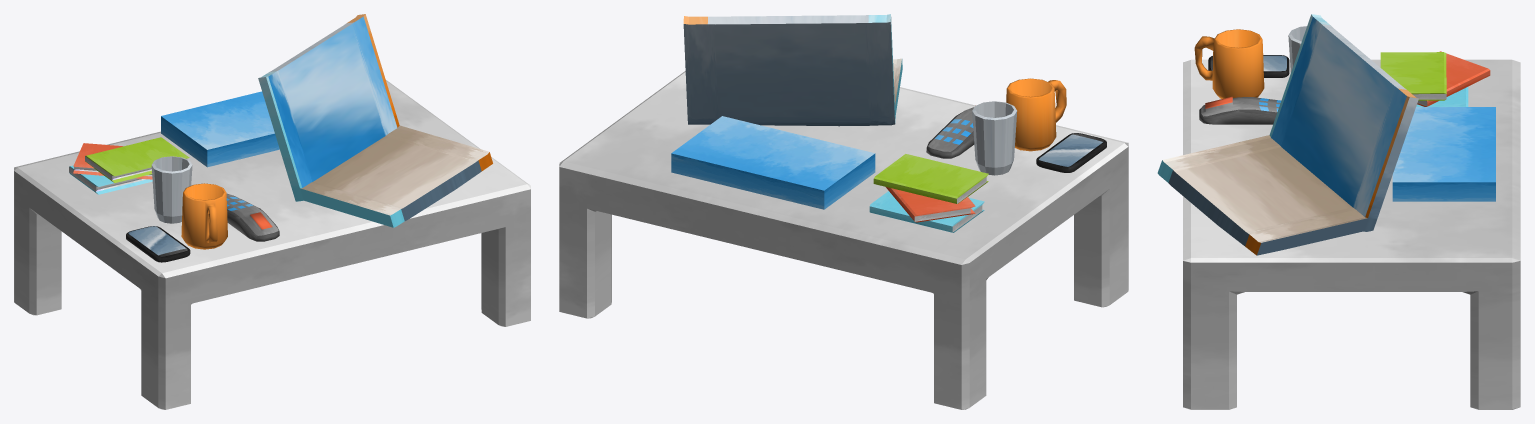
File: Obj_Table_Coffee.gltf
3 renders of one model, left to right at view 1: azimuth 30°, elevation 25°; view 2: azimuth 150°, elevation 25°; view 3: azimuth 270°, elevation 25°, orthographic. The views are drawn at different scales.
Visible parts, largest first — view 1: Obj_Table_Coffee; view 2: Obj_Table_Coffee; view 3: Obj_Table_Coffee.
Boxes of the visible parts, x1=… form: Obj_Table_Coffee: x1=14, y1=14, x2=530, y2=409; Obj_Table_Coffee: x1=559, y1=14, x2=1128, y2=409; Obj_Table_Coffee: x1=1157, y1=14, x2=1520, y2=409.
Size of what is drawn, in the model's own units: 2.12 by 1.39 by 1.61.
Materials: 1 (1 with a texture image).
